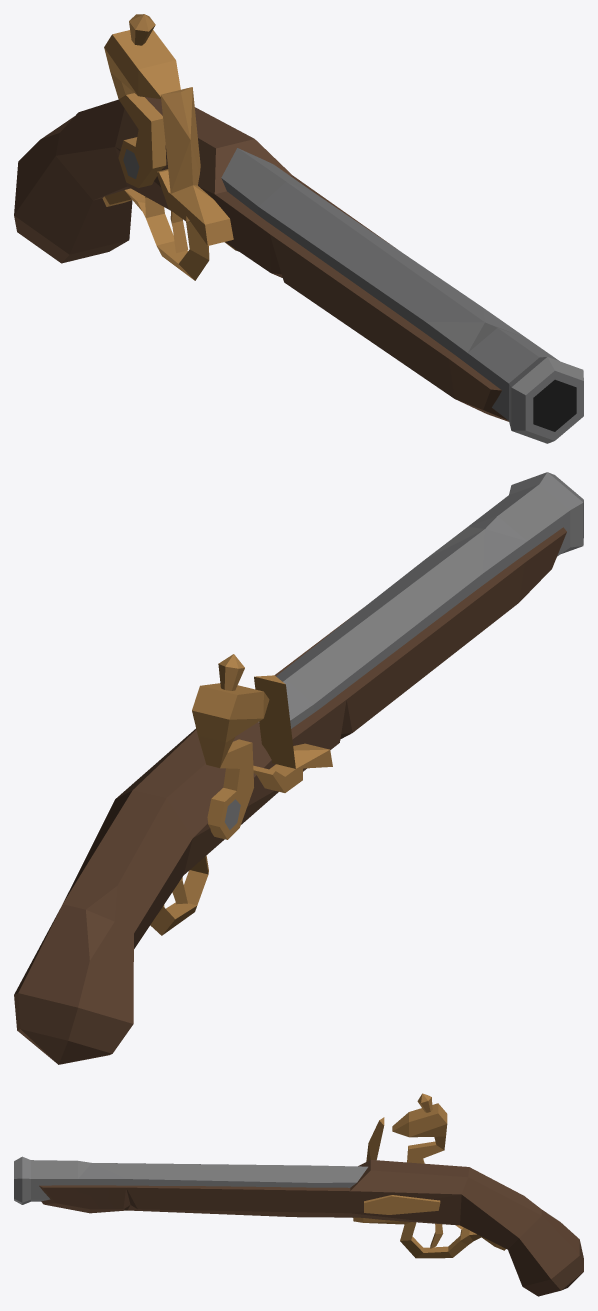
File: SM_Wep_MusketPistol_01.glb
The picture shows the model from 3 angles, top to bottom: view 1: azimuth 30°, elevation 25°; view 2: azimuth 150°, elevation 25°; view 3: azimuth 270°, elevation 25°; orthographic projection. The views are drawn at different scales.
Visible parts, largest first — view 1: SM_Wep_MusketPistol_01; view 2: SM_Wep_MusketPistol_01; view 3: SM_Wep_MusketPistol_01.
Boxes of the visible parts, x1,y1,x2,y2 form: SM_Wep_MusketPistol_01: [14, 14, 583, 443]; SM_Wep_MusketPistol_01: [14, 472, 583, 1064]; SM_Wep_MusketPistol_01: [14, 1093, 583, 1296].
Bounding box in the file's own units: 0.000955 × 0.00246 × 0.00689.
